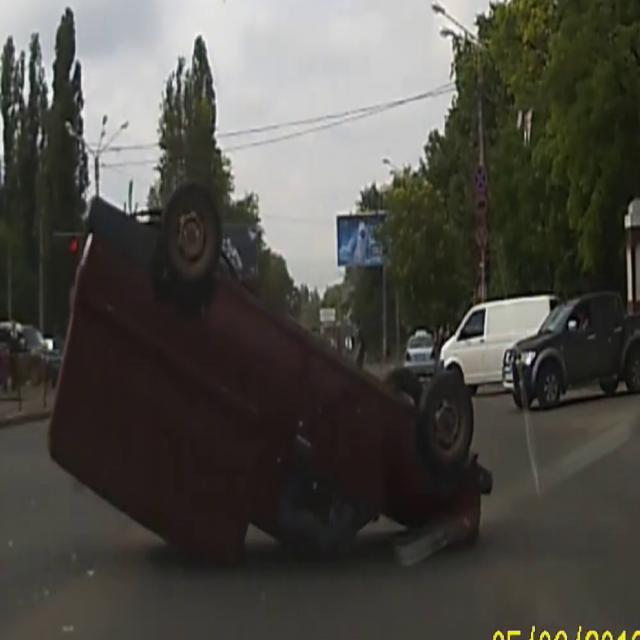accident: (36, 165, 498, 613)
